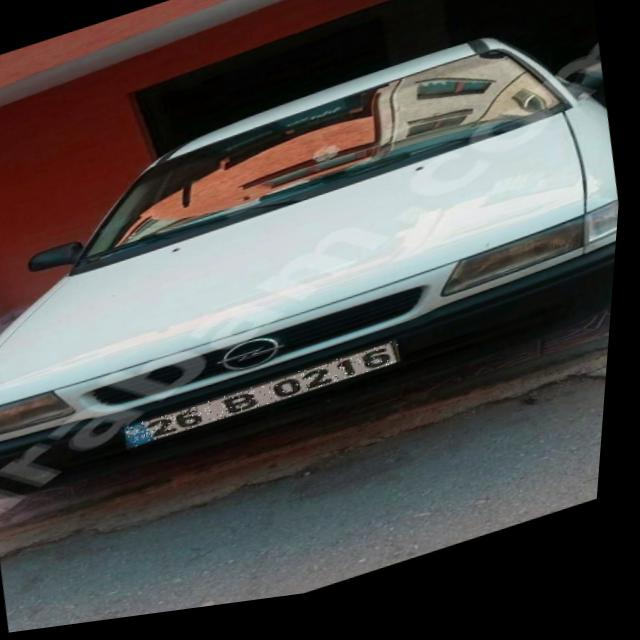license_plate: (131, 351, 408, 454)
